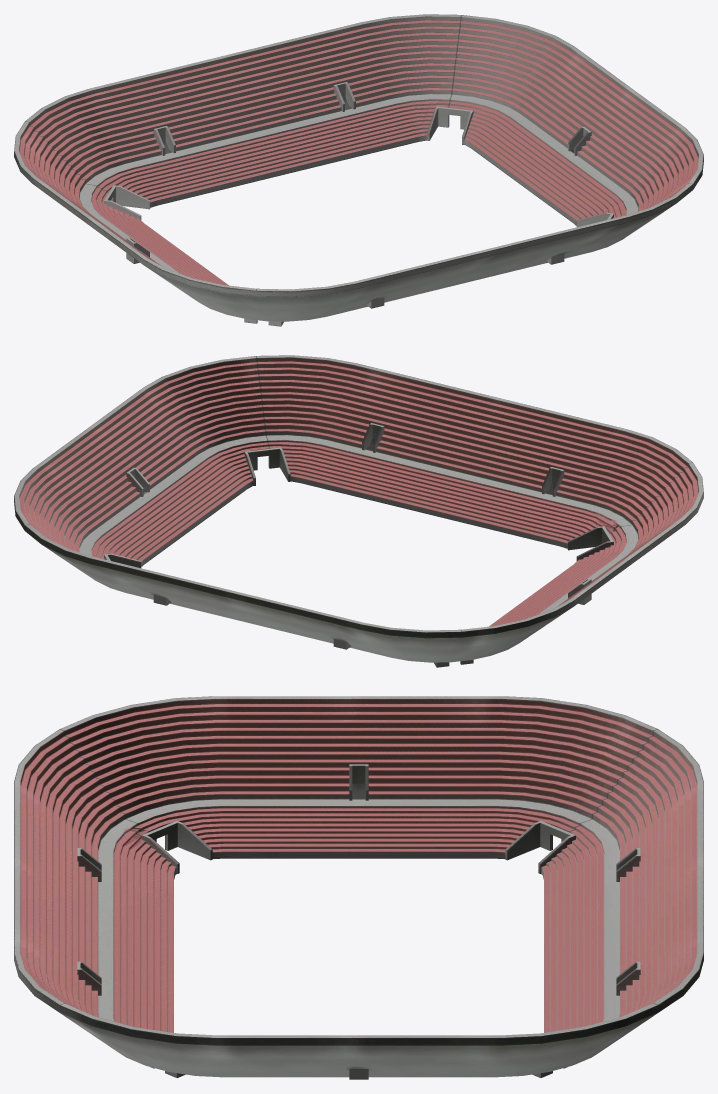
File: stadion_seki.fbx
The picture shows the model from 3 angles, top to bottom: view 1: azimuth 30°, elevation 25°; view 2: azimuth 150°, elevation 25°; view 3: azimuth 270°, elevation 25°; orthographic projection. The views are drawn at different scales.
Parts seen in each view (by area): view 1: Tribuna; view 2: Tribuna; view 3: Tribuna.
Part boxes in pixels (bbox=[...]): Tribuna: bbox=[14, 14, 703, 326]; Tribuna: bbox=[14, 355, 703, 667]; Tribuna: bbox=[14, 696, 703, 1079].
Bounding box in the file's own units: 2385 × 309 × 2033.
